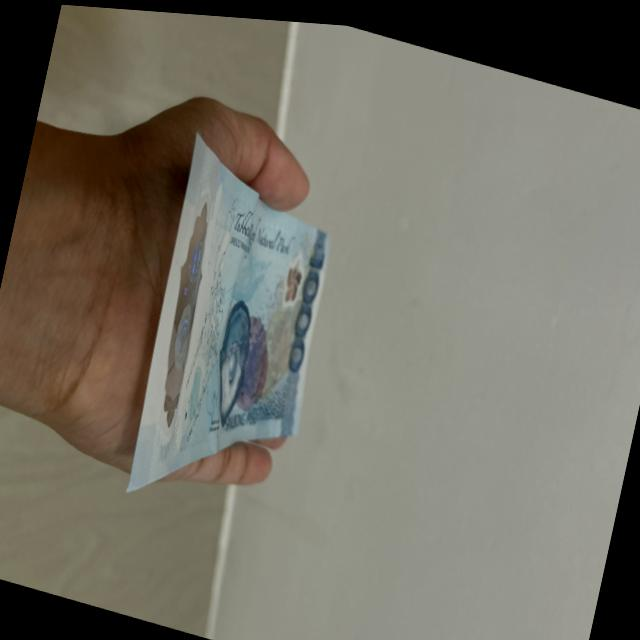clear_window: (150, 162, 232, 443)
sampaguita: (274, 244, 310, 309)
